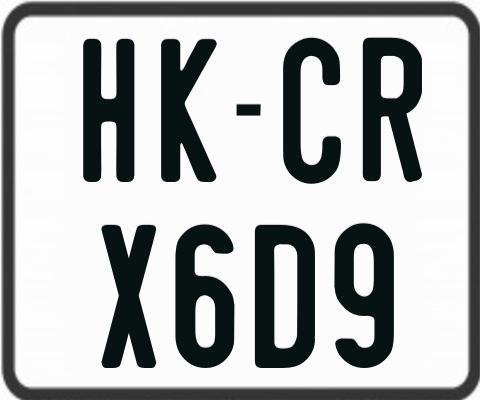6: (173, 223, 236, 369)
9: (333, 220, 399, 369)
C: (282, 38, 343, 188)
D: (253, 223, 317, 369)
H: (80, 39, 133, 187)
K: (161, 36, 221, 181)
R: (361, 38, 420, 185)
X: (102, 223, 159, 370)
